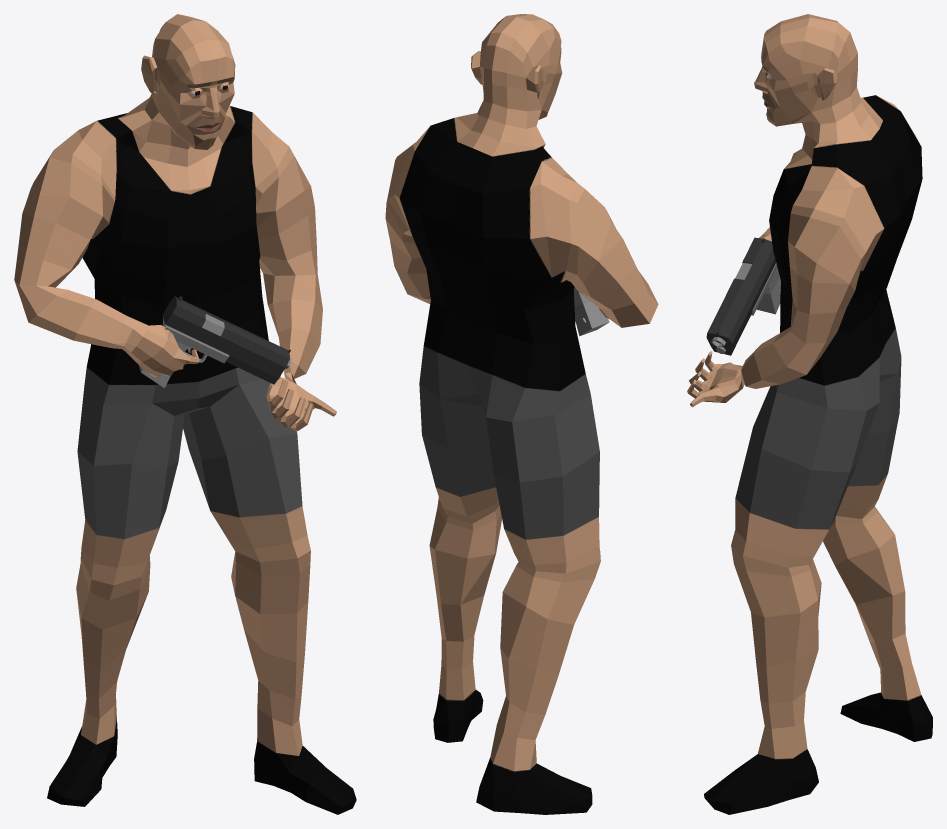
File: PlayerIdle(214).obj
3 views of the same model, side by side, from view 1: azimuth 30°, elevation 25°; view 2: azimuth 150°, elevation 25°; view 3: azimuth 270°, elevation 25° (orthographic). The views are drawn at different scales.
Visible parts, largest first — view 1: Plane002, Box003; view 2: Plane002, Box003; view 3: Plane002, Box003.
Part boxes in pixels (x1,y1,x2,y2): Plane002: [14, 14, 356, 814]; Box003: [139, 296, 291, 388]; Plane002: [385, 14, 658, 814]; Box003: [573, 287, 609, 336]; Plane002: [687, 14, 932, 814]; Box003: [706, 237, 780, 355].
Size of the model in its own units: 677 by 1799 by 541.
